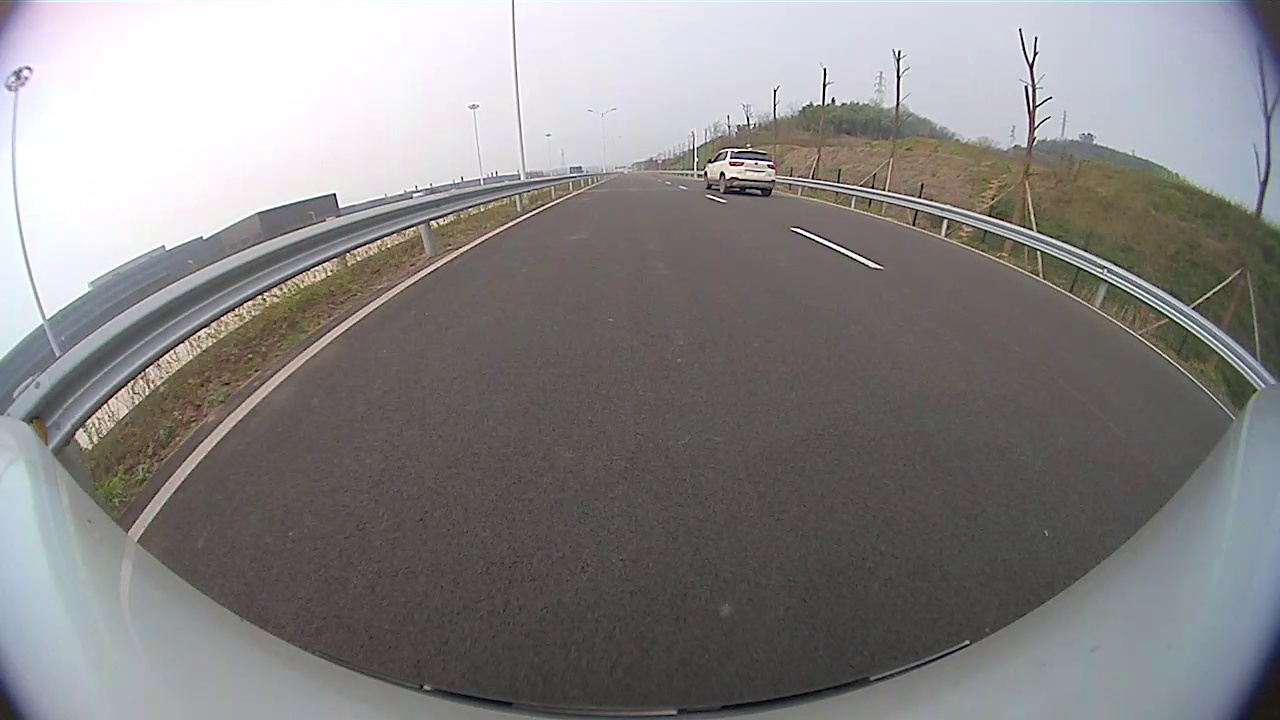car: (702, 148, 777, 198)
front: (701, 172, 712, 190)
rear: (718, 175, 727, 195)
